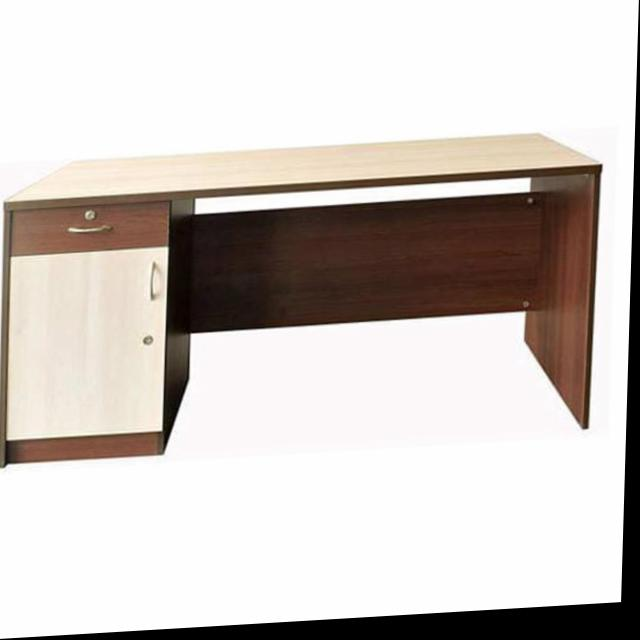Table: (0, 112, 635, 495)
